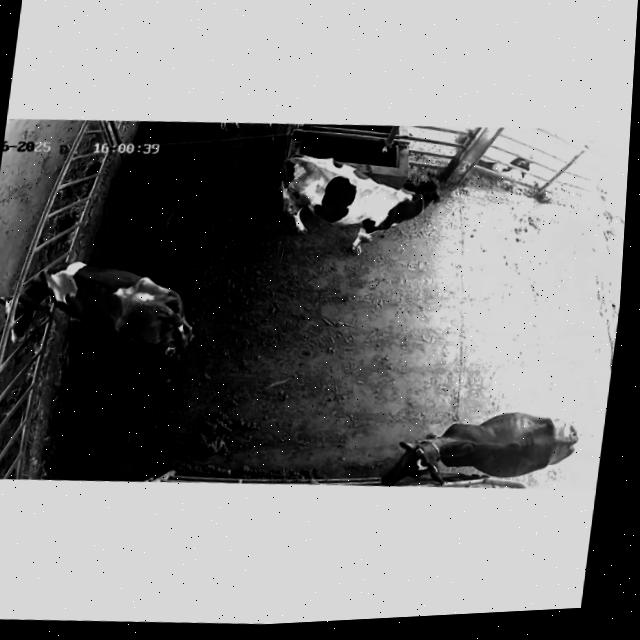eat: (0, 252, 97, 359)
stand: (344, 385, 603, 503), (265, 139, 461, 271)
